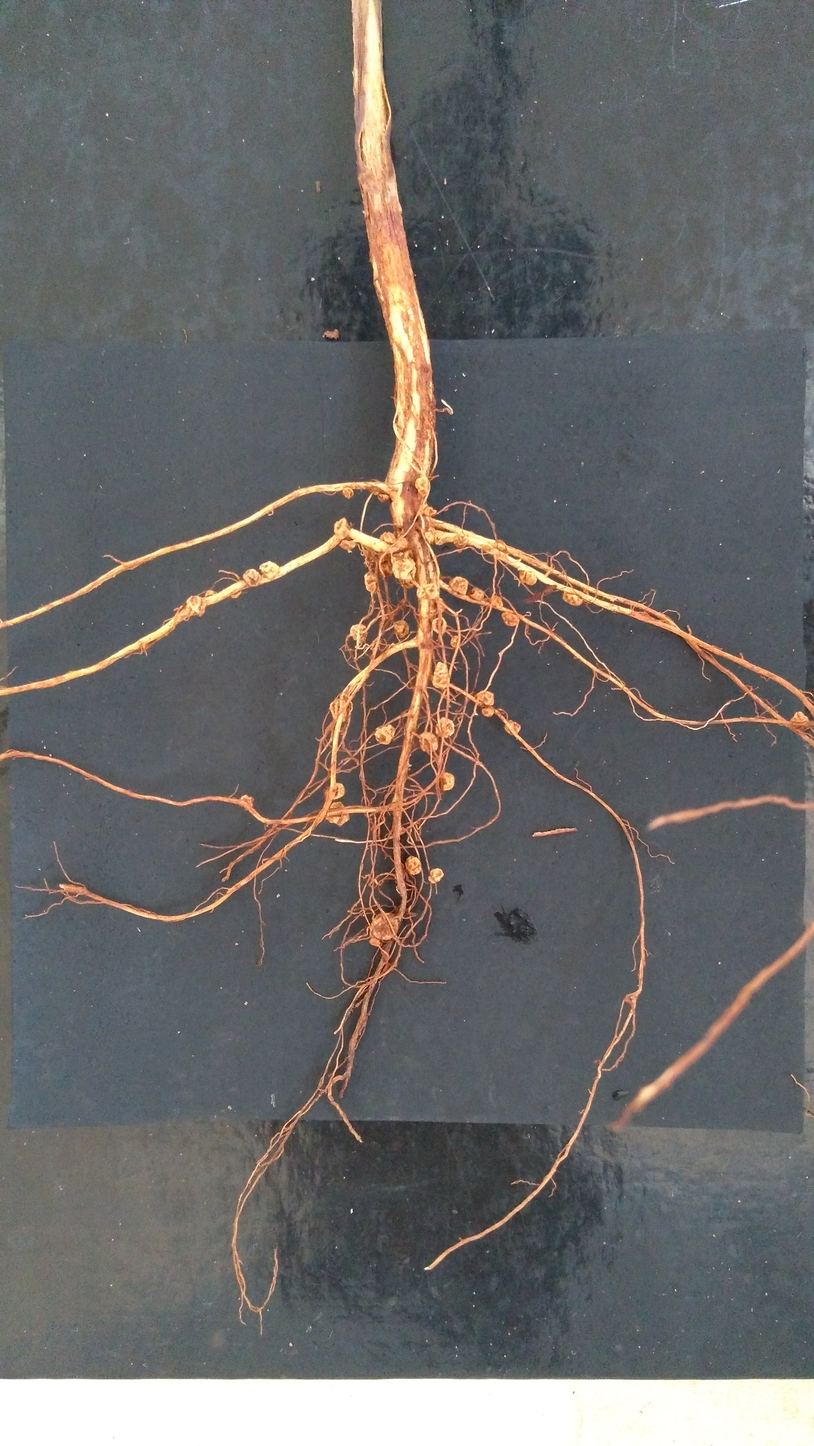nodule: (370, 912, 398, 940), (391, 557, 417, 579), (326, 802, 349, 826), (328, 699, 353, 720), (432, 661, 450, 689), (378, 532, 395, 560), (374, 725, 396, 745), (186, 595, 205, 617), (259, 561, 280, 580), (435, 717, 454, 738), (449, 576, 468, 596), (419, 731, 438, 751), (243, 569, 262, 587), (333, 517, 348, 539), (350, 624, 368, 642), (417, 584, 438, 599), (364, 571, 378, 593), (475, 691, 494, 707), (325, 783, 344, 799), (405, 856, 421, 875), (563, 591, 582, 606), (415, 477, 429, 497), (431, 617, 447, 634), (519, 570, 537, 585), (394, 620, 409, 638), (440, 772, 454, 791), (504, 720, 521, 735), (501, 612, 519, 626), (481, 544, 500, 557), (790, 711, 809, 723), (429, 868, 444, 883), (454, 532, 468, 548), (240, 794, 253, 811), (339, 539, 357, 551), (379, 561, 392, 577), (469, 588, 484, 601), (489, 595, 503, 608), (433, 598, 446, 612), (399, 577, 414, 588), (434, 533, 447, 545), (493, 540, 507, 551), (342, 487, 354, 499), (482, 705, 494, 717), (370, 937, 383, 947), (424, 506, 436, 516), (450, 635, 460, 647), (230, 589, 242, 598), (378, 494, 389, 503), (205, 590, 217, 597), (368, 488, 378, 495), (401, 862, 405, 878), (428, 526, 436, 533), (400, 825, 405, 835)
